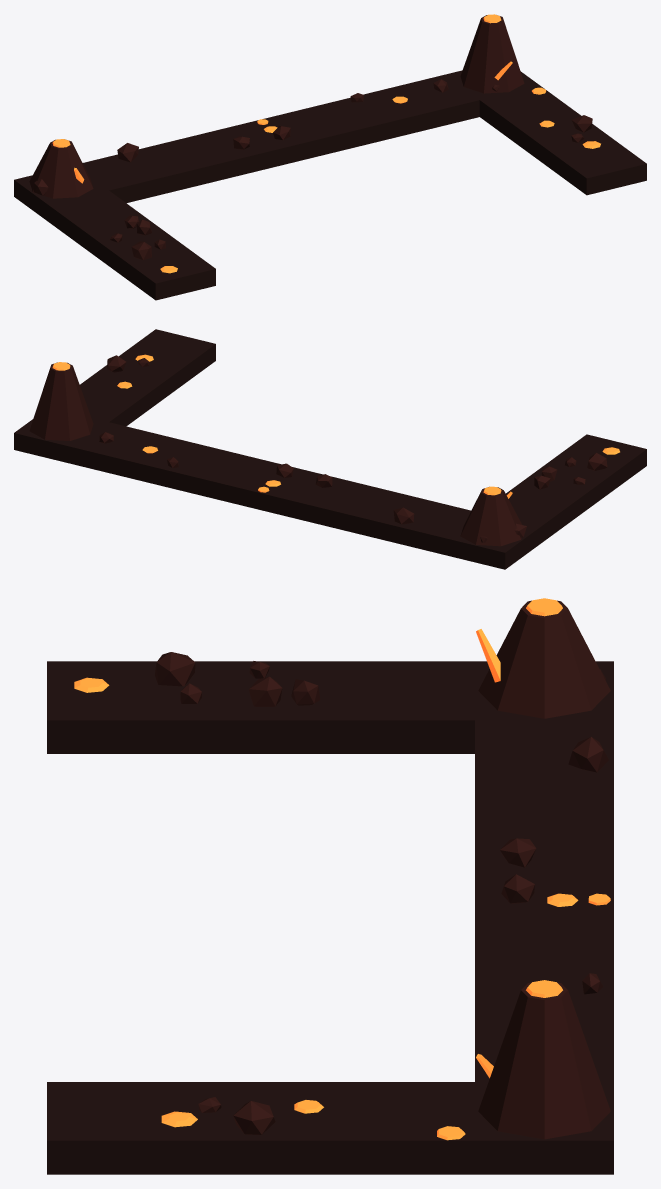
Rendered from volcano.glb.
The picture shows the model from 3 angles, top to bottom: view 1: azimuth 30°, elevation 25°; view 2: azimuth 150°, elevation 25°; view 3: azimuth 270°, elevation 25°; orthographic projection. The views are drawn at different scales.
Parts seen in each view (by area): view 1: field_volcano; view 2: field_volcano; view 3: field_volcano.
Boxes of the visible parts, x1,y1,x2,y2 form: field_volcano: (14,14,646,300); field_volcano: (14,329,646,569); field_volcano: (47,598,613,1174).
Size of the model in its own units: 10.6 by 1.63 by 5.3.
